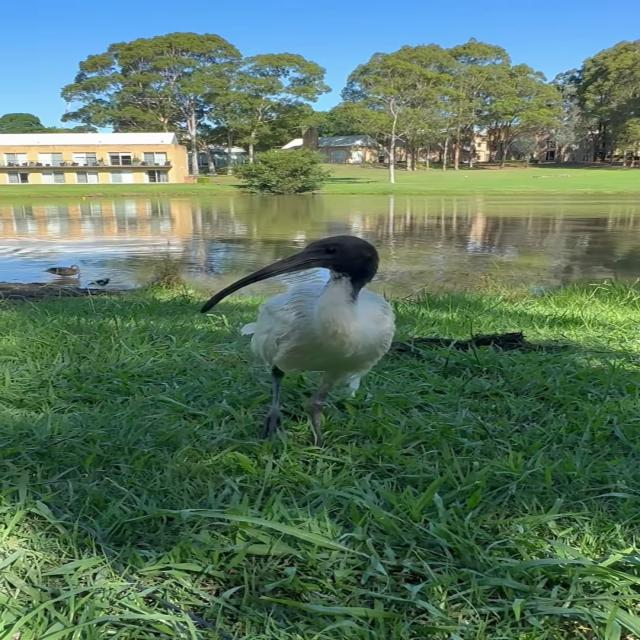Birds-Ibis: (190, 232, 405, 458)
Birds-Other: (39, 261, 88, 281)
